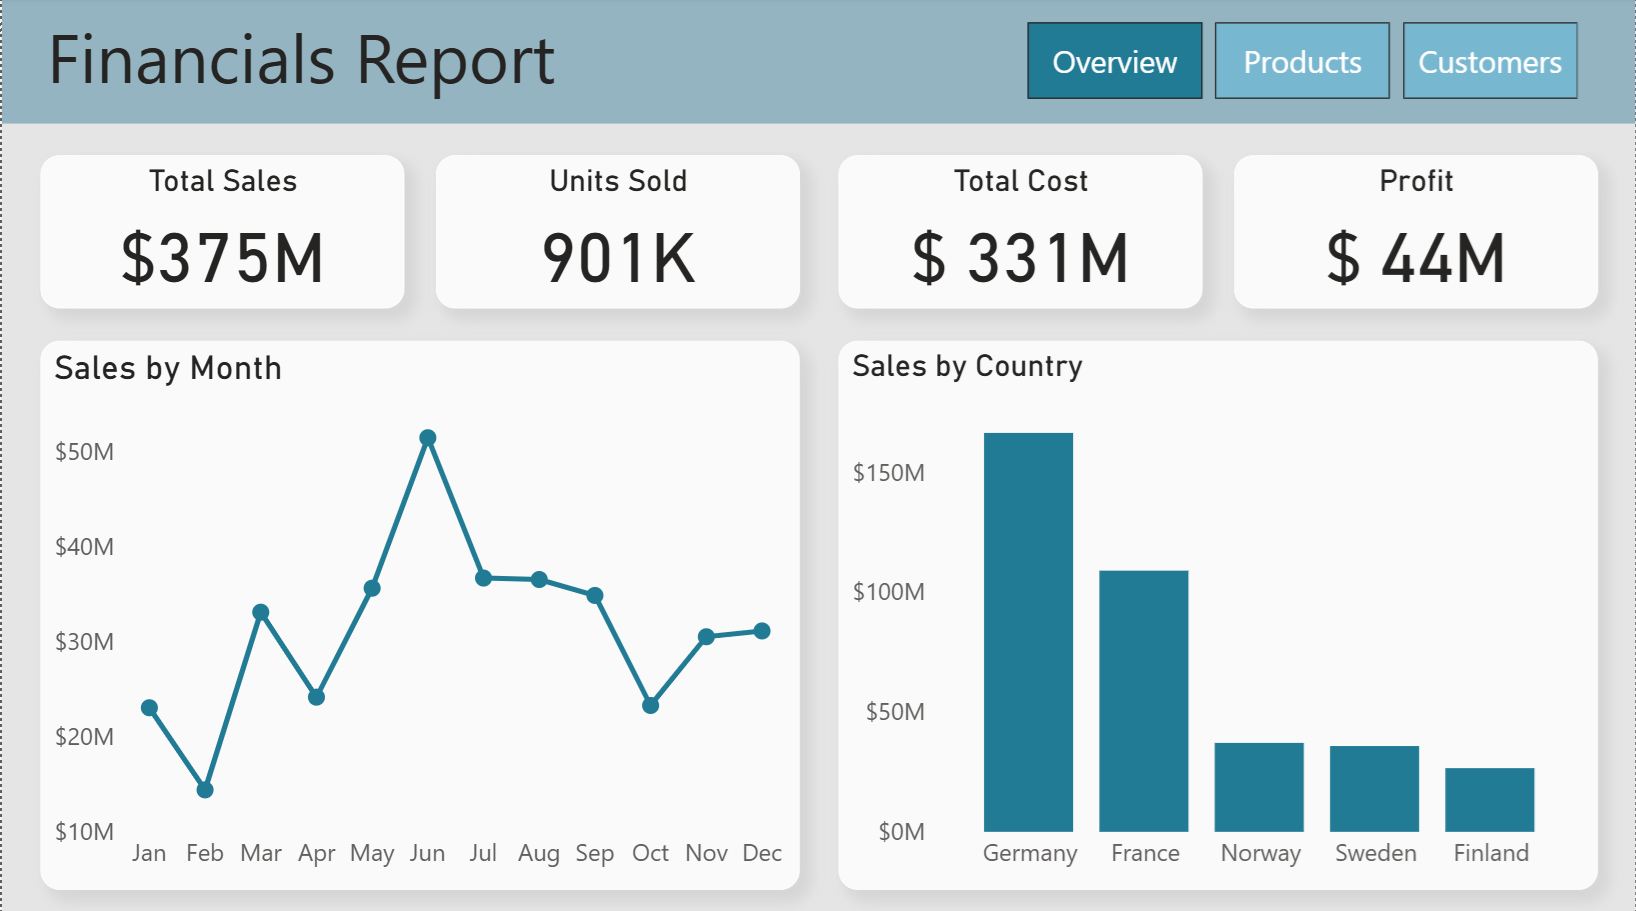

This screenshot's page, from the dashboard's own definition file:
{"tool":"powerbi","page":{"name":"Overview","canvas":[1280,720],"ordinal":0},"visuals":[{"type":"card","title":"Total Sales","fields":{"Values":["KPIs.Total Sales"]},"box":[30,125.4,285,120],"z":0},{"type":"card","title":"Units Sold","fields":{"Values":["KPIs.Total Units Sold"]},"box":[340,125,285,120],"z":1000},{"type":"card","title":"Total Cost","fields":{"Values":["Sum(Fact Sales. COGS )"]},"box":[655,125,285,120],"z":2000},{"type":"lineChart","title":"Sales  by Month","fields":{"Category":["Dim Date.MonthShortName"],"Y":["KPIs.Total Sales"]},"box":[30.2,270.2,595,430],"z":3000},{"type":"shape","box":[0,0,1280,100.1],"z":4000},{"type":"textbox","box":[30,5,435,90],"z":5000},{"type":"card","title":"Profit","fields":{"Values":["KPIs.Profit"]},"box":[965,125,285,120],"z":6000},{"type":"clusteredColumnChart","title":"Sales by Country","fields":{"Category":["Dim Customer.Country"],"Y":["KPIs.Total Sales"]},"box":[655,270,595,430],"z":7000},{"type":"pageNavigator","box":[803.7,21.2,431.4,60.5],"z":8000}]}

Visuals, with their boxes in screenshot pixels (x1, y1, x2, y2), scaled from the page's 1280x720 canvas onto the 1636x911 screenshot:
"Total Sales" card: {"x1": 38, "y1": 159, "x2": 403, "y2": 310}
"Units Sold" card: {"x1": 435, "y1": 158, "x2": 799, "y2": 310}
"Total Cost" card: {"x1": 837, "y1": 158, "x2": 1201, "y2": 310}
"Sales  by Month" lineChart: {"x1": 39, "y1": 342, "x2": 799, "y2": 886}
shape: {"x1": 0, "y1": 0, "x2": 1635, "y2": 127}
textbox: {"x1": 38, "y1": 6, "x2": 594, "y2": 120}
"Profit" card: {"x1": 1233, "y1": 158, "x2": 1598, "y2": 310}
"Sales by Country" clusteredColumnChart: {"x1": 837, "y1": 342, "x2": 1598, "y2": 886}
pageNavigator: {"x1": 1027, "y1": 27, "x2": 1579, "y2": 103}
